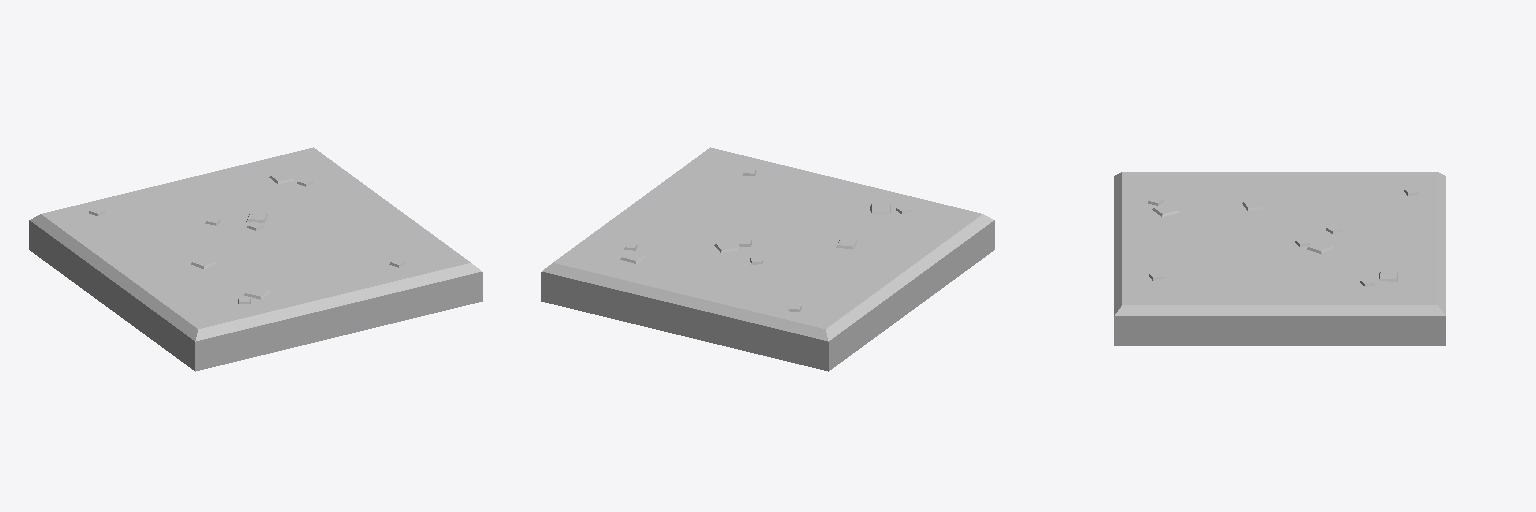
Rendered from floor_dirt.obj.
The picture shows the model from 3 angles: view 1: azimuth 30°, elevation 25°; view 2: azimuth 150°, elevation 25°; view 3: azimuth 270°, elevation 25°; orthographic projection.
Parts seen in each view (by area): view 1: floor_dirt_Cube.647; view 2: floor_dirt_Cube.647; view 3: floor_dirt_Cube.647.
Part boxes in pixels (x1,y1,x2,y2): floor_dirt_Cube.647: (29, 147, 482, 371); floor_dirt_Cube.647: (541, 147, 994, 371); floor_dirt_Cube.647: (1114, 172, 1445, 345).
Bounding box in the file's own units: 4 × 0.53 × 4.